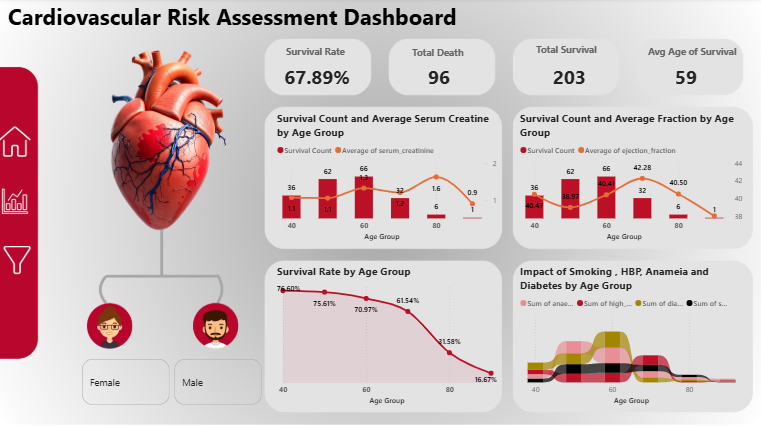

This screenshot's page, from the dashboard's own definition file:
{"tool":"powerbi","page":{"name":"Page 1","canvas":[1280,720],"ordinal":0},"visuals":[{"type":"textbox","box":[10.1,0,841.6,67.2],"z":0},{"type":"card","fields":{"Values":["heart_Disease_clinical_records_.Survival Rate"]},"box":[446.8,90.7,174.7,82.3],"z":1000},{"type":"card","fields":{"Values":["heart_Disease_clinical_records_.Avg age of survival"]},"box":[1063.3,90.7,181.4,82.3],"z":2000},{"type":"card","fields":{"Values":["heart_Disease_clinical_records_.total death"]},"box":[651.8,90.7,174.7,82.3],"z":3000},{"type":"card","fields":{"Values":["heart_Disease_clinical_records_.total survival"]},"box":[870.1,90.7,176.4,82.3],"z":4000},{"type":"textbox","box":[477.1,73.9,144.5,43.7],"z":5000},{"type":"textbox","box":[688.7,75.6,131,40.3],"z":6000},{"type":"textbox","box":[897,70.6,149.5,38.6],"z":7000},{"type":"textbox","box":[1085.1,73.9,194.9,42],"z":8000},{"type":"lineClusteredColumnComboChart","title":"Survival Count and Average Serum Creatine by Age Group","fields":{"Category":["heart_Disease_clinical_records_.age (bins)"],"Y":["CountNonNull(heart_Disease_clinical_records_.DEATH_EVENT)"],"Y2":["Avg(heart_Disease_clinical_records_.serum_creatinine)"]},"box":[461.9,189.8,379.6,223.4],"z":9000},{"type":"lineClusteredColumnComboChart","title":"Survival Count and Average Fraction by Age Group","fields":{"Category":["heart_Disease_clinical_records_.age (bins)"],"Y":["CountNonNull(heart_Disease_clinical_records_.DEATH_EVENT)"],"Y2":["Avg(heart_Disease_clinical_records_.ejection_fraction)"]},"box":[870.1,189.8,384.7,223.4],"z":10000},{"type":"lineChart","fields":{"Category":["heart_Disease_clinical_records_.age (bins)"],"Y":["heart_Disease_clinical_records_.Survival Rate"]},"box":[461.9,446.8,379.6,241.9],"z":11000},{"type":"ribbonChart","title":"Impact of Smoking , HBP, Anameia and Diabetes by Age Group","fields":{"Category":["heart_Disease_clinical_records_.age (bins)"],"Y":["Sum(heart_Disease_clinical_records_.anaemia)","Sum(heart_Disease_clinical_records_.high_blood_pressure)","Sum(heart_Disease_clinical_records_.diabetes)","Sum(heart_Disease_clinical_records_.smoking)"]},"box":[870.1,446.8,384.7,241.9],"z":12000},{"type":"advancedSlicerVisual","fields":{"Values":["heart_Disease_clinical_records_.Gender"]},"box":[134.4,601.4,312.4,87.3],"z":13000}]}

Visuals, with their boxes on the page's 1280x720 design canvas (x1, y1, x2, y2). These are canvas units, not pixel positions in the 761x427 screenshot, which may show the page scaled, cropped or inside an application window:
textbox: region(10, 0, 852, 67)
card - heart_Disease_clinical_records_.Survival Rate: region(447, 91, 622, 173)
card - heart_Disease_clinical_records_.Avg age of survival: region(1063, 91, 1245, 173)
card - heart_Disease_clinical_records_.total death: region(652, 91, 826, 173)
card - heart_Disease_clinical_records_.total survival: region(870, 91, 1046, 173)
textbox: region(477, 74, 622, 118)
textbox: region(689, 76, 820, 116)
textbox: region(897, 71, 1046, 109)
textbox: region(1085, 74, 1280, 116)
"Survival Count and Average Serum Creatine by Age Group" lineClusteredColumnComboChart: region(462, 190, 842, 413)
"Survival Count and Average Fraction by Age Group" lineClusteredColumnComboChart: region(870, 190, 1255, 413)
lineChart - heart_Disease_clinical_records_.age (bins) x heart_Disease_clinical_records_.Survival Rate: region(462, 447, 842, 689)
"Impact of Smoking , HBP, Anameia and Diabetes by Age Group" ribbonChart: region(870, 447, 1255, 689)
advancedSlicerVisual - heart_Disease_clinical_records_.Gender: region(134, 601, 447, 689)
